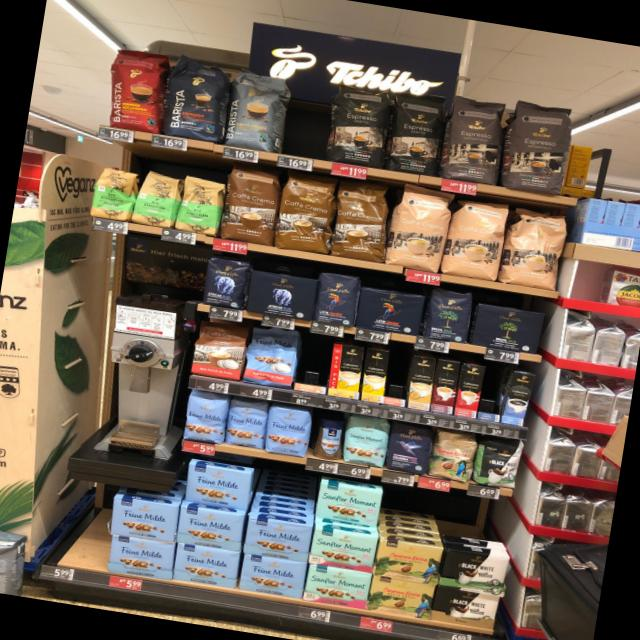AB Bohne: (199, 255, 252, 312)
AB Gemahlen: (244, 269, 318, 322)
Athiopien Bohne: (89, 162, 138, 222)
Athiopien Gemahlen: (176, 172, 226, 238), (134, 168, 181, 229)
BM Bohne: (422, 286, 477, 344)
BM Gemahlen: (471, 303, 547, 355)
BW Bohne: (476, 436, 526, 492)
BW Gemahlen: (438, 548, 511, 596), (432, 584, 500, 630)
Barista CC: (224, 63, 294, 154)
Barista Espresso: (162, 51, 234, 143)
Barista Kolumbien: (101, 46, 170, 136)
C Fino Bohne: (385, 420, 435, 476)
CC Mild: (386, 183, 454, 274), (501, 204, 571, 292), (444, 192, 511, 282)
CC Vollmundig: (188, 318, 250, 382)
CC Vollmundig 36 Pads: (272, 172, 340, 256), (328, 182, 394, 262), (219, 165, 283, 247)
Colombia BB Bohne: (429, 428, 480, 484)
Colombia BB Gemahlen: (366, 574, 437, 622), (374, 538, 444, 586)
Empty Shelf: (294, 338, 333, 388), (383, 352, 412, 400), (479, 366, 508, 414)
Espresso Aromatisch: (500, 100, 580, 196), (440, 92, 510, 186)
Espresso Kraftig: (324, 80, 396, 169), (384, 89, 452, 179)
FM 36 Pads: (243, 326, 300, 390)
FM Bohne: (263, 406, 314, 459), (182, 390, 230, 446), (224, 398, 271, 451)
FM Gemahlen: (183, 462, 254, 512), (238, 552, 309, 601), (107, 496, 179, 544), (106, 534, 176, 582), (174, 506, 247, 552), (172, 543, 242, 590), (243, 516, 313, 562)
FM Instant: (312, 415, 348, 461)
LG Bohne: (312, 271, 362, 328)
LG Gemahlen: (354, 286, 426, 338)
SM Bohne: (342, 414, 392, 470)
SM Gemahlen: (309, 526, 379, 574), (316, 481, 384, 529), (304, 564, 372, 610)
Simo CCMild: (326, 342, 365, 400)
Simo CCMild bigpack: (360, 348, 391, 404)
Simo Decaff: (407, 356, 438, 412)
Simo Es Brazil: (454, 364, 484, 419)
Simo Es Caramel: (430, 360, 461, 414)
Simo Es Vanilla: (502, 372, 536, 427)
